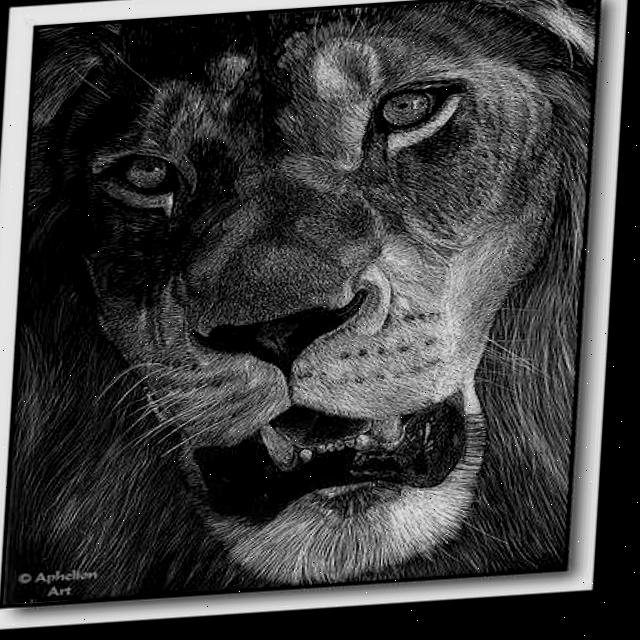Lion: (0, 10, 610, 638)
